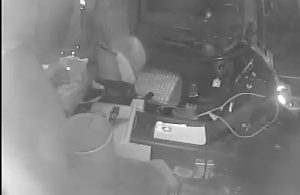paper: (152, 118, 207, 146)
